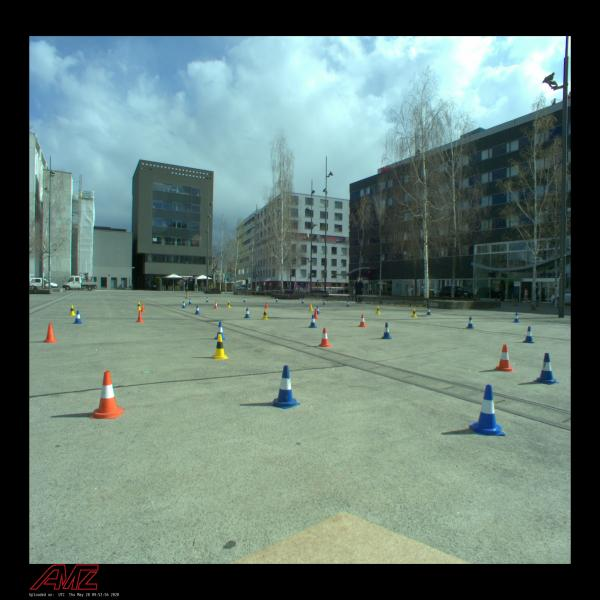blue_cone: (469, 384, 506, 436), (269, 365, 301, 409), (533, 352, 560, 385), (214, 321, 226, 340), (523, 326, 535, 343), (381, 322, 392, 339), (308, 315, 317, 328), (74, 310, 82, 324), (467, 316, 474, 328), (513, 312, 520, 322), (244, 308, 250, 318), (194, 305, 200, 314), (426, 307, 432, 315), (182, 301, 187, 308), (188, 298, 193, 304), (346, 301, 350, 307), (317, 306, 320, 314), (206, 297, 210, 302), (243, 297, 246, 302), (301, 299, 304, 304), (323, 300, 326, 305), (276, 297, 278, 302)
orange_cone: (89, 370, 125, 419), (495, 344, 513, 372), (44, 322, 60, 343), (318, 327, 332, 348), (358, 314, 367, 327), (136, 310, 144, 322), (140, 303, 146, 312), (314, 308, 319, 318), (214, 301, 219, 308), (264, 302, 268, 308)
yellow_cone: (211, 334, 230, 360), (69, 305, 76, 316), (262, 309, 268, 320), (411, 308, 417, 318), (136, 302, 142, 310), (375, 306, 381, 314), (309, 304, 314, 311), (227, 300, 231, 308)
